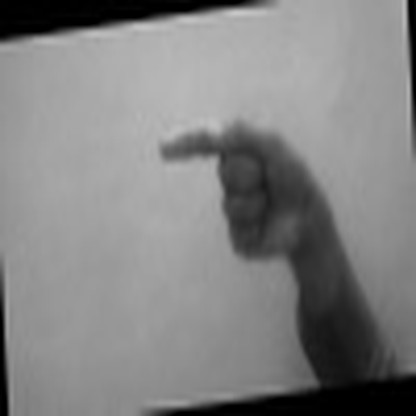g: (155, 112, 334, 271)
